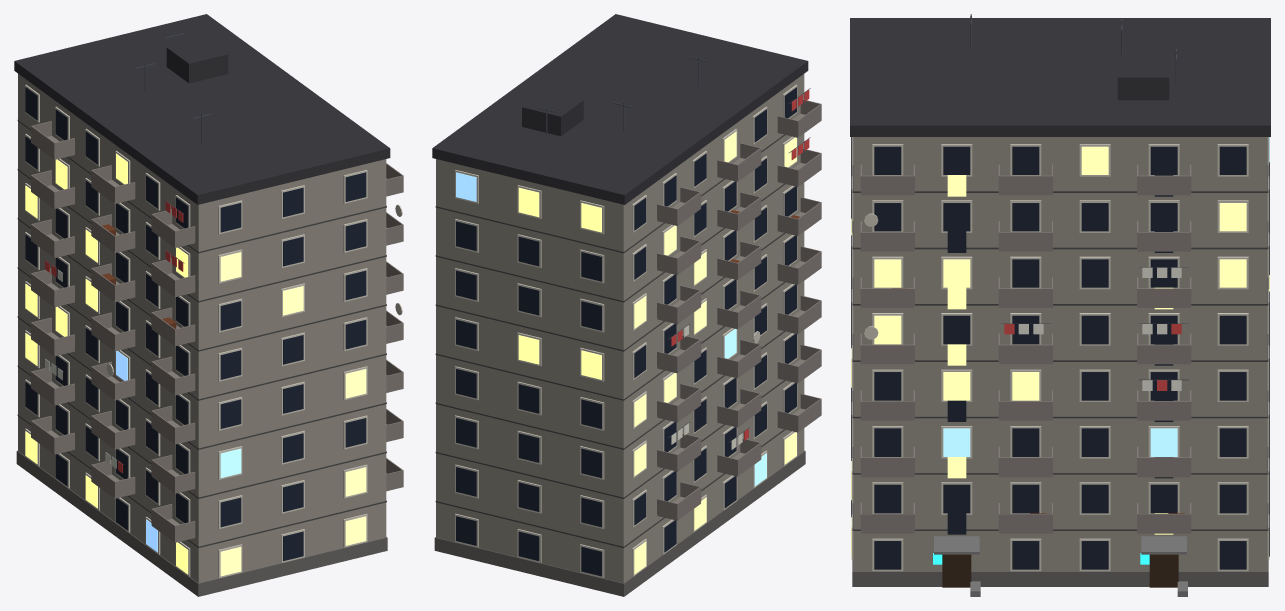
The model's file is panel_8.glb.
The picture shows the model from 3 angles, left to right: view 1: azimuth 30°, elevation 25°; view 2: azimuth 150°, elevation 25°; view 3: azimuth 270°, elevation 25°; orthographic projection. The views are drawn at different scales.
Visible parts, largest first — view 1: panel_8; view 2: panel_8; view 3: panel_8.
Boxes of the visible parts, x1,y1,x2,y2 form: panel_8: [14, 14, 403, 596]; panel_8: [432, 14, 821, 596]; panel_8: [850, 14, 1270, 596].
Bounding box in the file's own units: 15.13 × 26.4 × 20.3.
